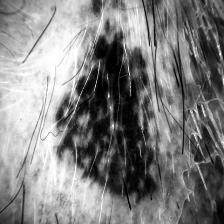Benign Marking or Mole: (56, 19, 171, 207)
